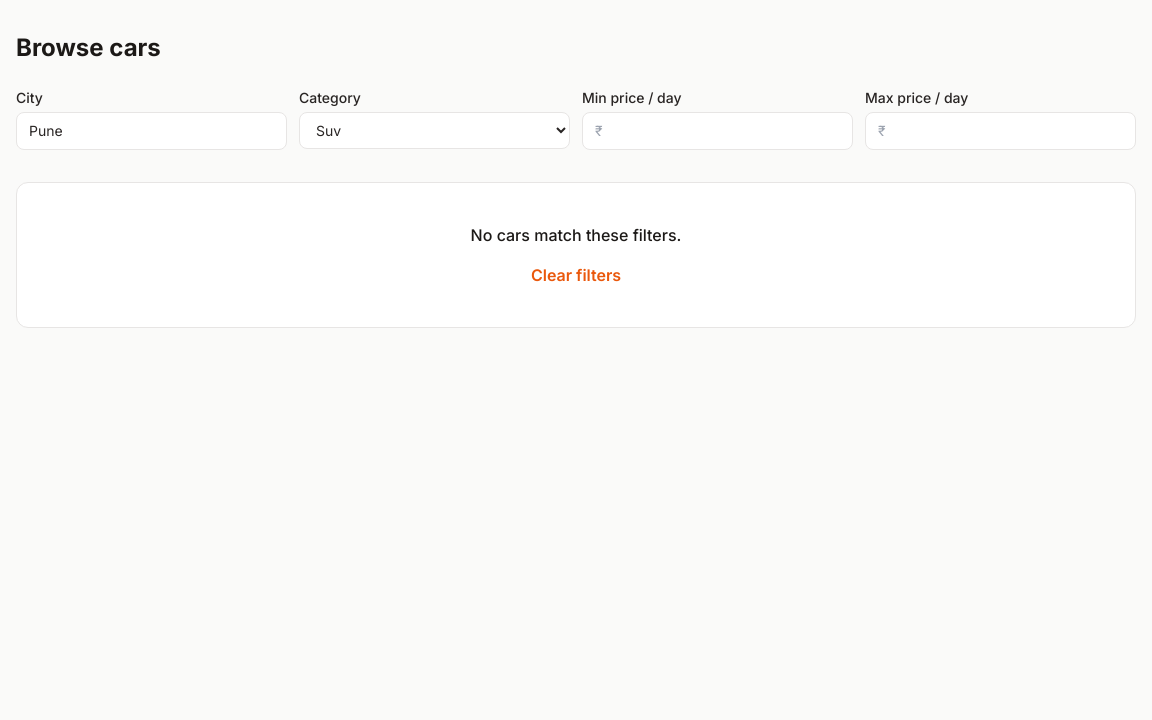
BrowseCars › reads filters from the URL and can clear them
Check: the text "No cars match these filters." is shown, box [471, 225, 681, 245]
Click the button "Clear filters". click: click(576, 275)
box: [531, 263, 621, 287]
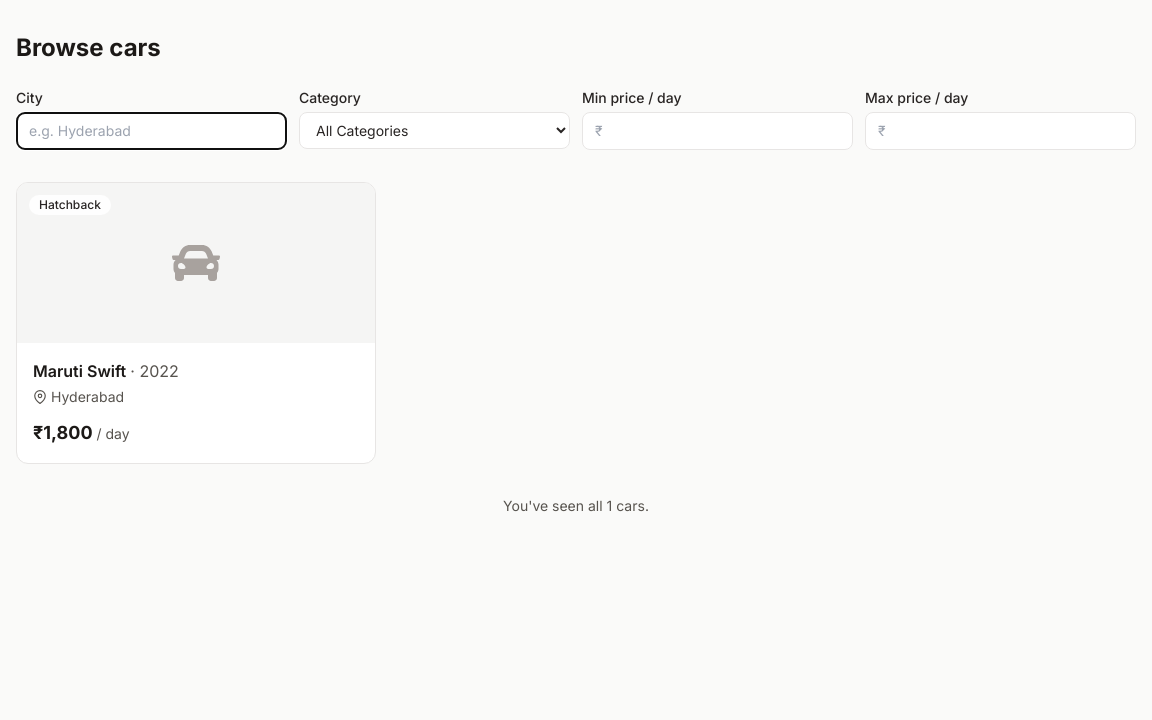
Check: the heading "Maruti Swift · 2022" is shown, box [33, 361, 179, 381]
Check: the field labelled "City" is empty, box [16, 112, 287, 150]
